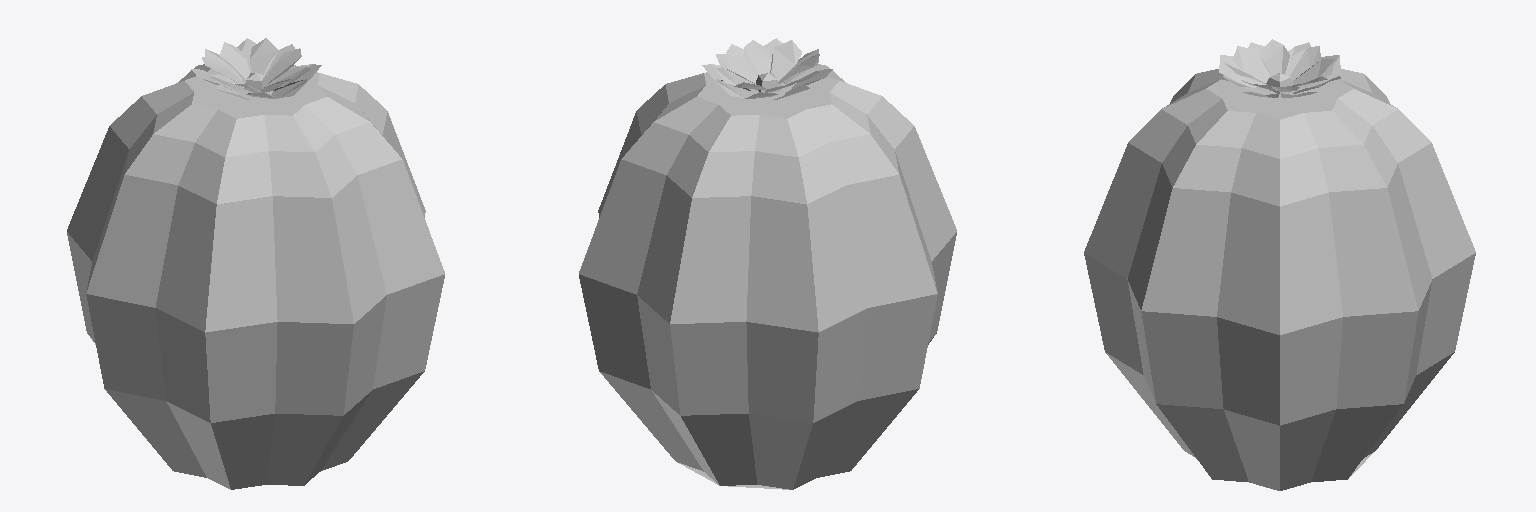
File: cactus3.obj
3 renders of one model, left to right at view 1: azimuth 30°, elevation 25°; view 2: azimuth 150°, elevation 25°; view 3: azimuth 270°, elevation 25°, orthographic.
Visible parts, largest first — view 1: cactus_3, flor; view 2: cactus_3, flor; view 3: cactus_3, flor.
Part boxes in pixels (bbox=[...]): cactus_3: bbox=[67, 64, 444, 489]; flor: bbox=[191, 38, 321, 99]; cactus_3: bbox=[579, 64, 956, 489]; flor: bbox=[702, 38, 832, 99]; cactus_3: bbox=[1084, 69, 1475, 490]; flor: bbox=[1219, 39, 1340, 97].
Bounding box in the file's own units: 1.38 × 1.51 × 1.38.